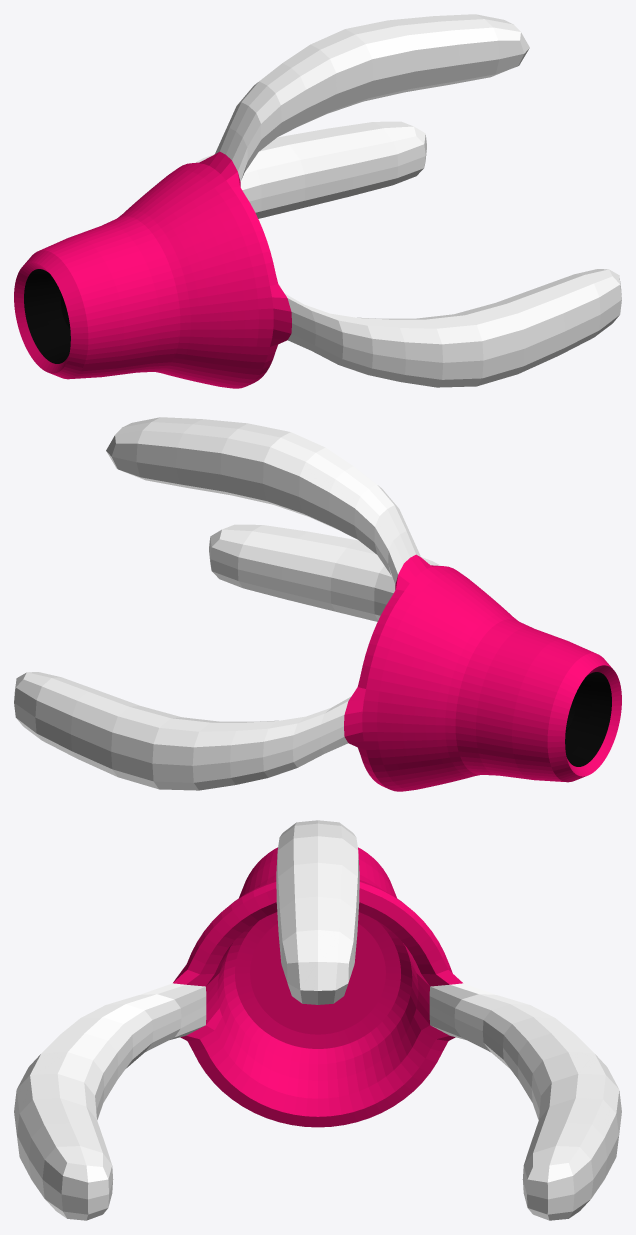
Rendered from EnemyWeapon4.fbx.
3 renders of one model, top to bottom at view 1: azimuth 30°, elevation 25°; view 2: azimuth 150°, elevation 25°; view 3: azimuth 270°, elevation 25°, orthographic. The views are drawn at different scales.
Visible parts, largest first — view 1: Cylinder; view 2: Cylinder; view 3: Cylinder.
Boxes of the visible parts, <box> form: Cylinder: <box>14,14,621,388</box>; Cylinder: <box>14,417,621,791</box>; Cylinder: <box>14,820,621,1220</box>.
Bounding box in the file's own units: 802 × 496 × 739.
